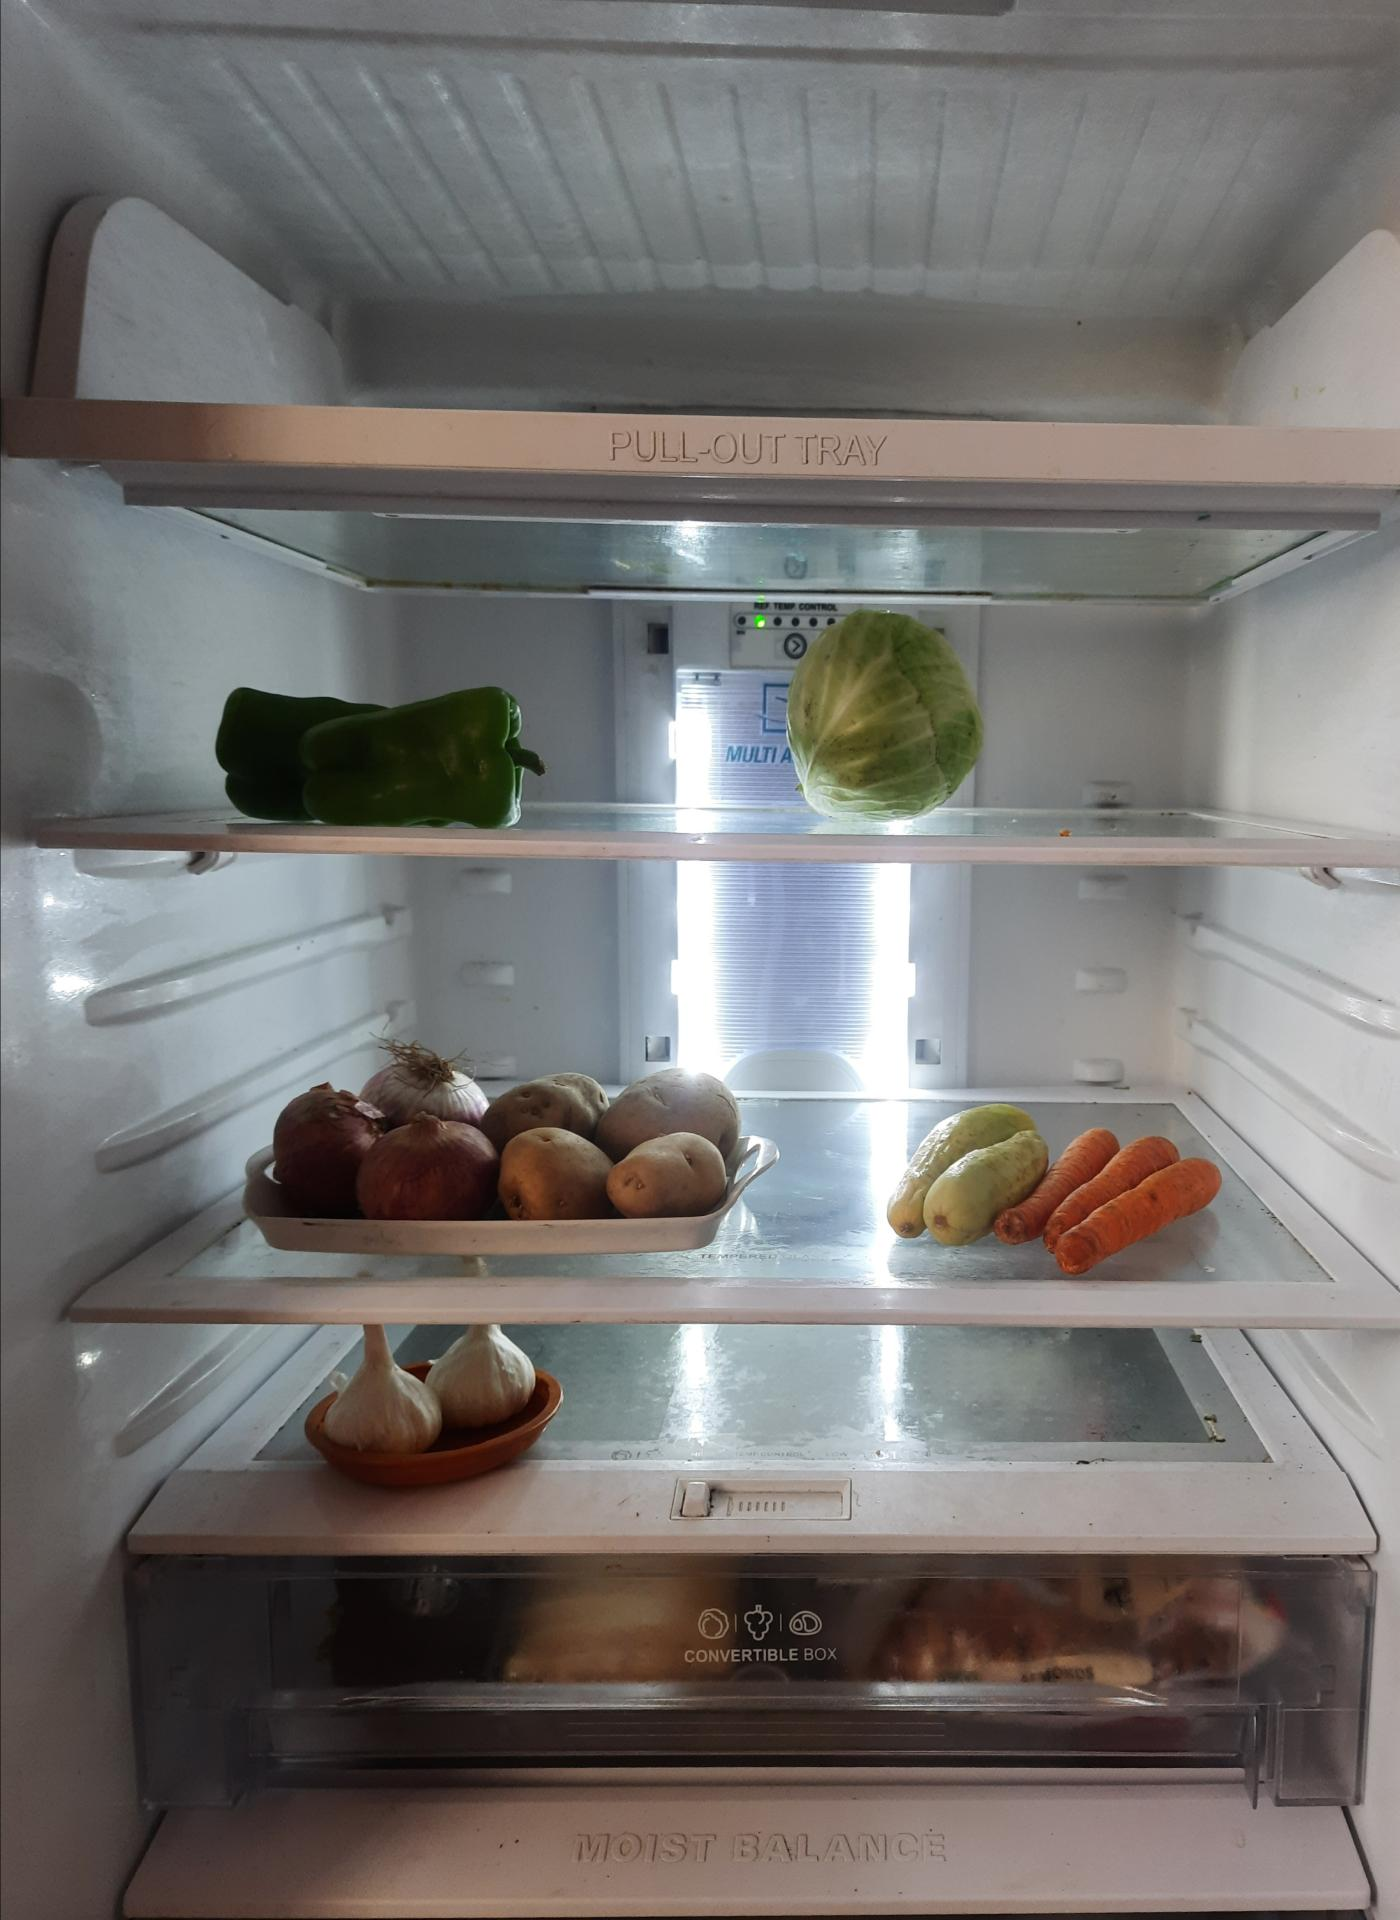capsicum: (163, 641, 637, 836)
carrots: (990, 1111, 1245, 1283)
cauliflower: (753, 613, 1024, 844)
cucumber: (875, 1067, 1033, 1276)
garlic: (274, 1316, 613, 1501)
onion: (264, 1024, 494, 1210)
potato: (498, 1030, 781, 1243)
